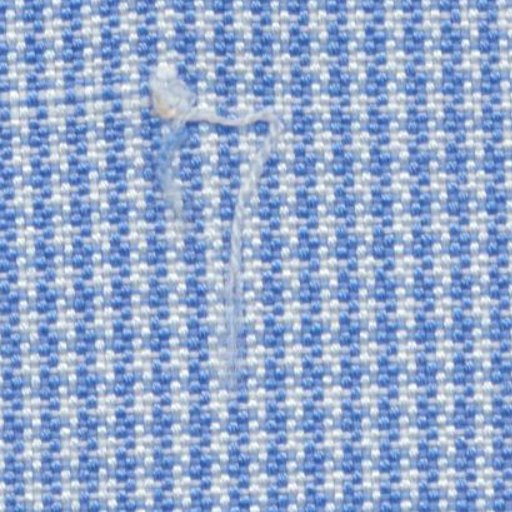DuanSha: (116, 67, 292, 382)
